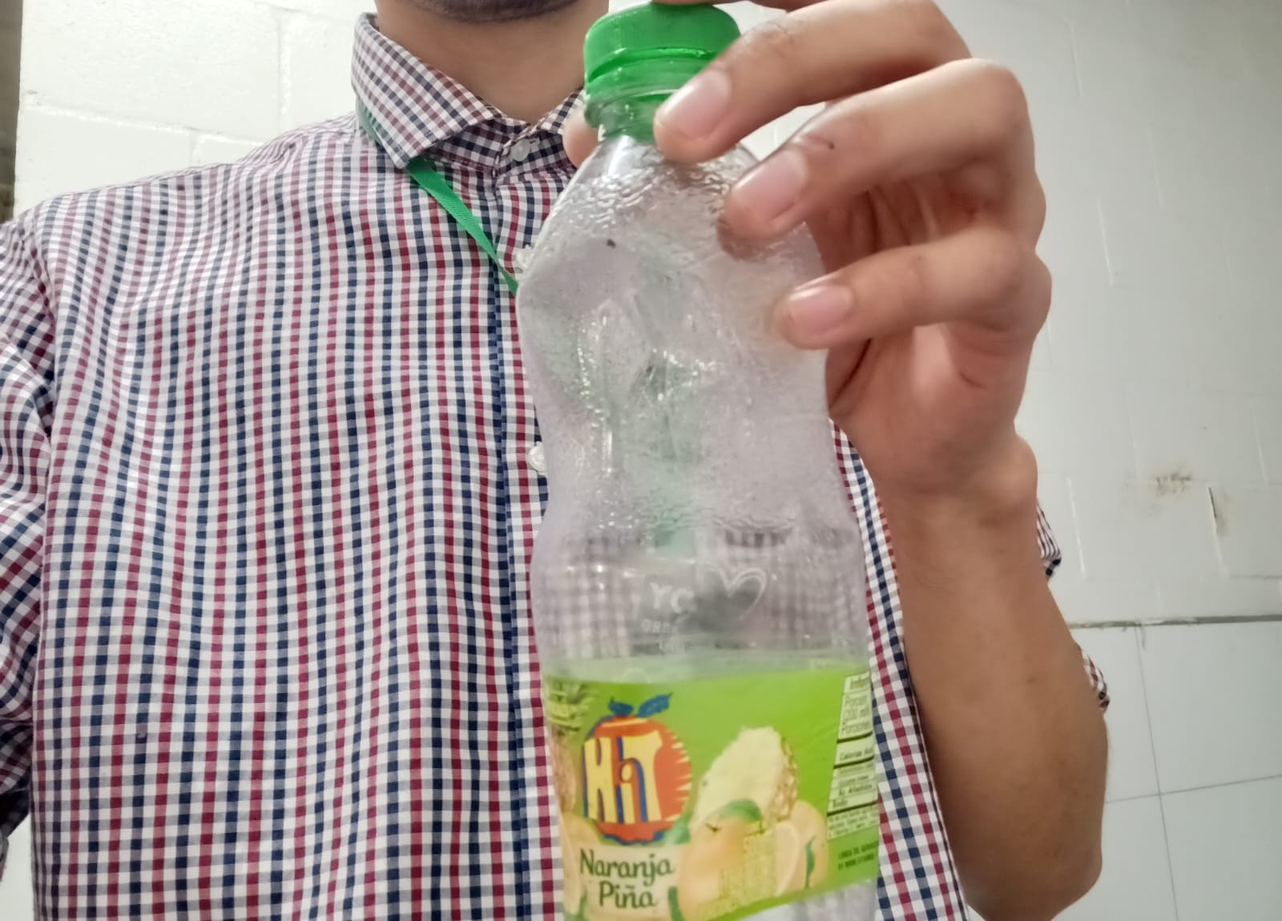Plastico: (530, 4, 882, 921)
